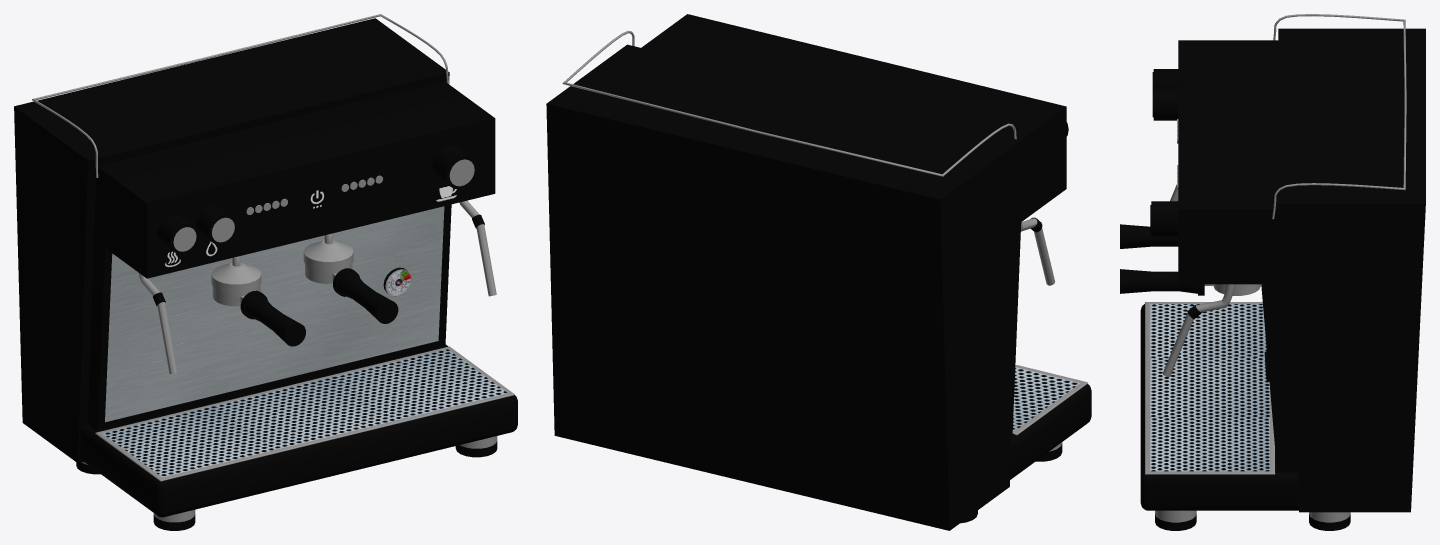
The model's file is Coffee machine.fbx.
3 renders of one model, left to right at view 1: azimuth 30°, elevation 25°; view 2: azimuth 150°, elevation 25°; view 3: azimuth 270°, elevation 25°, orthographic. The views are drawn at different scales.
Visible parts, largest first — view 1: Coffee machine; view 2: Coffee machine; view 3: Coffee machine.
Part boxes in pixels (x1,y1,x2,y2): Coffee machine: (14,14,517,530); Coffee machine: (546,14,1091,530); Coffee machine: (1120,14,1425,530).
Bounding box in the file's own units: 50.25 × 46.38 × 36.87.
3 materials, 2 textured.
